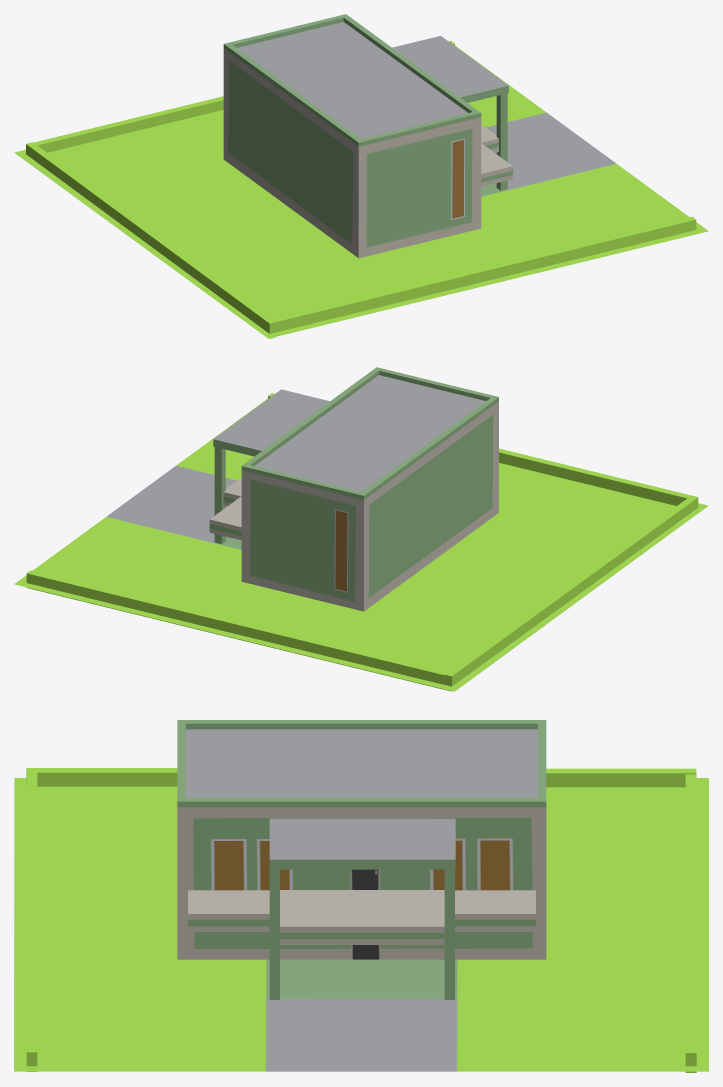
The model's file is 1maison_1.glb.
3 views of the same model, one above another, from view 1: azimuth 30°, elevation 25°; view 2: azimuth 150°, elevation 25°; view 3: azimuth 270°, elevation 25° (orthographic). The views are drawn at different scales.
Visible parts, largest first — view 1: Plan; view 2: Plan; view 3: Plan.
Part boxes in pixels (x1=…): Plan: x1=14, y1=14, x2=708, y2=338; Plan: x1=14, y1=367, x2=708, y2=691; Plan: x1=14, y1=720, x2=708, y2=1072.
Bounding box in the file's own units: 15 × 4.16 × 15.
1 material, 1 textured.
